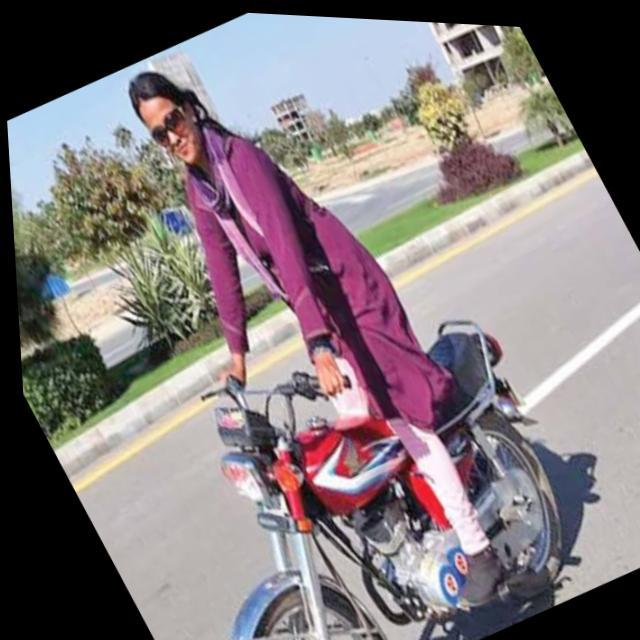Nonhelmet: (120, 63, 208, 170)
